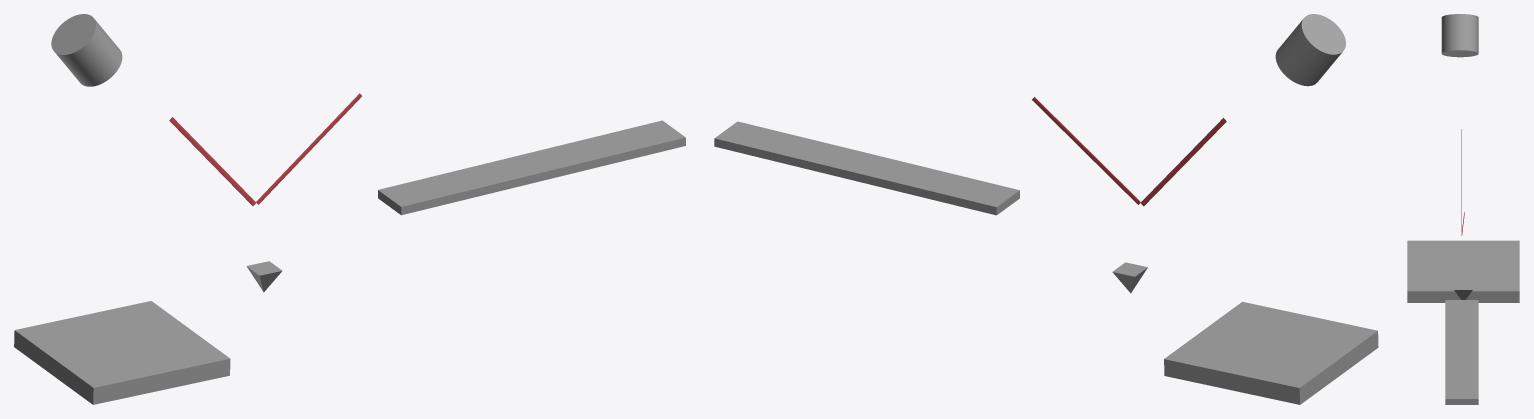
Rendered from disassemble.glb.
The picture shows the model from 3 angles, left to right: view 1: azimuth 30°, elevation 25°; view 2: azimuth 150°, elevation 25°; view 3: azimuth 270°, elevation 25°; orthographic projection. The views are drawn at different scales.
Bounding box in the file's own units: 0.1653 × 0.0909 × 0.0365.
